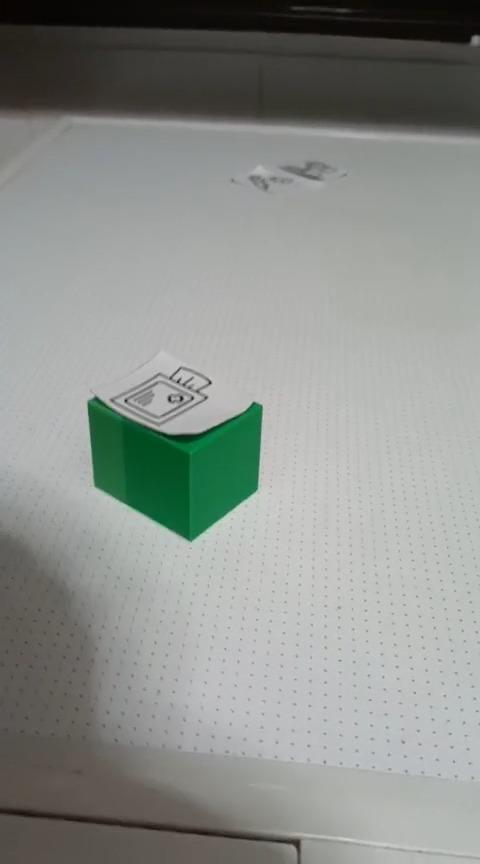Gauze: (85, 349, 263, 542)
